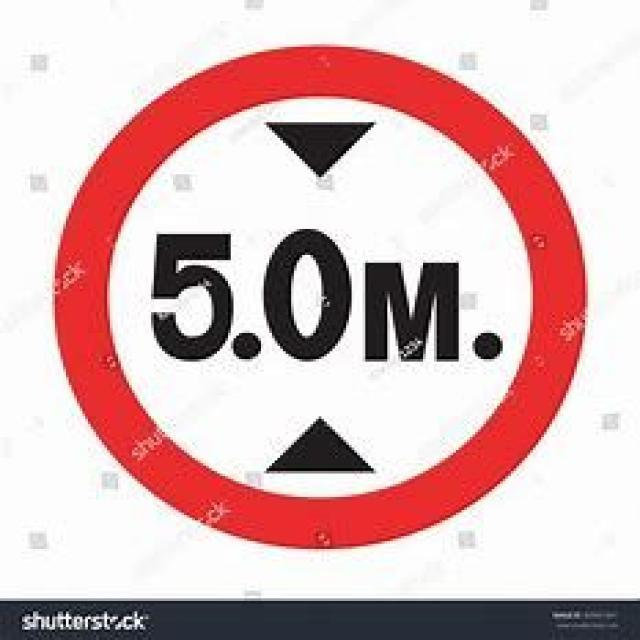height limit: (52, 44, 586, 554)
